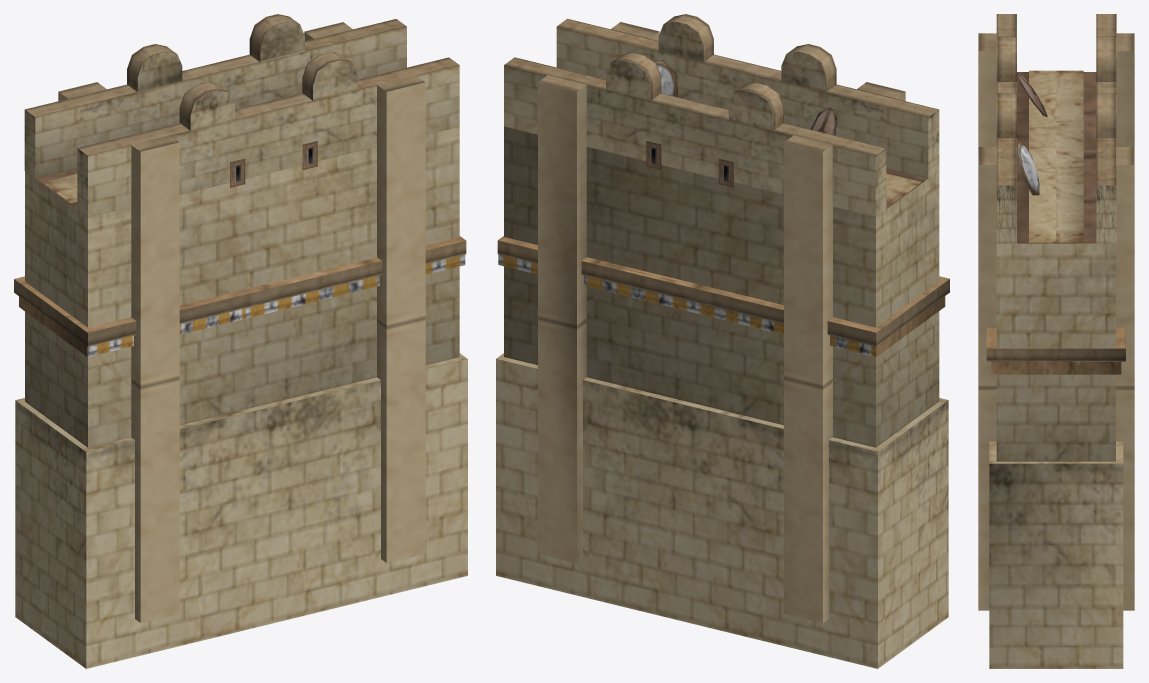
Rendered from s_ptolemies_wall_short.glb.
3 views of the same model, side by side, from view 1: azimuth 30°, elevation 25°; view 2: azimuth 150°, elevation 25°; view 3: azimuth 270°, elevation 25° (orthographic). The views are drawn at different scales.
Parts seen in each view (by area): view 1: s_ptolemies_wall_short_part0; view 2: s_ptolemies_wall_short_part0; view 3: s_ptolemies_wall_short_part0.
Part boxes in pixels (<box>): s_ptolemies_wall_short_part0: <box>14,14,467,668</box>; s_ptolemies_wall_short_part0: <box>496,14,949,668</box>; s_ptolemies_wall_short_part0: <box>978,14,1134,668</box>.
Size of the model in its own units: 3.9 by 5.3 by 1.46.
Materials: 1 (1 with a texture image).
